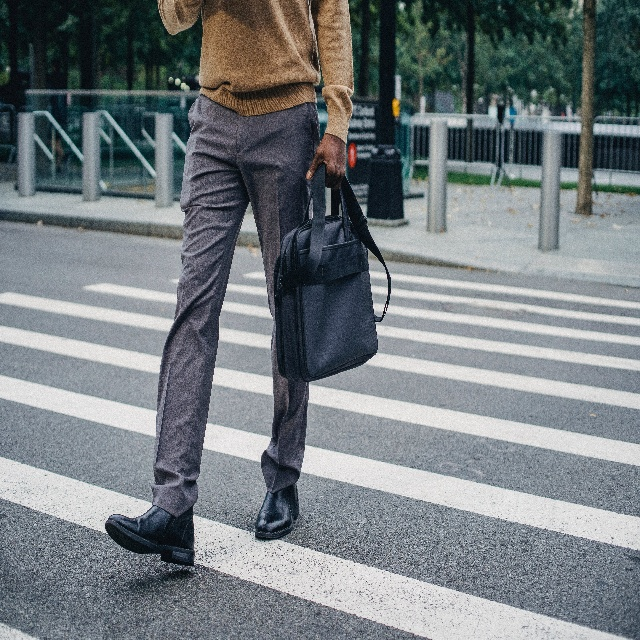Sin_guantes: (306, 132, 347, 191)
